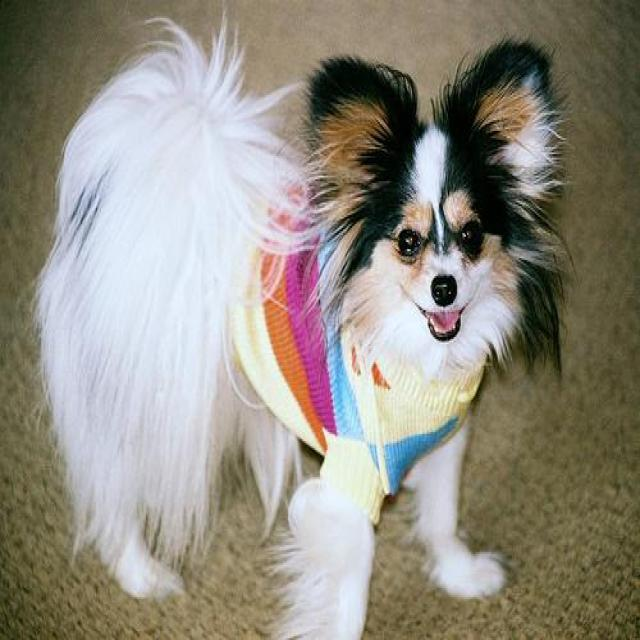papillon: (27, 9, 568, 638)
